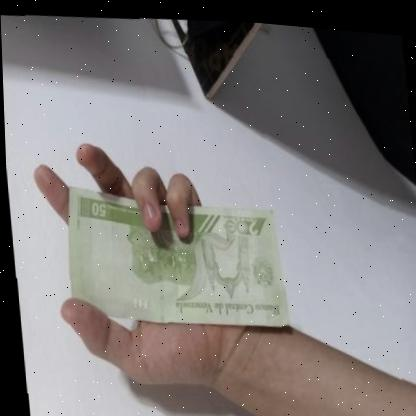vef_back: (58, 171, 288, 332)
